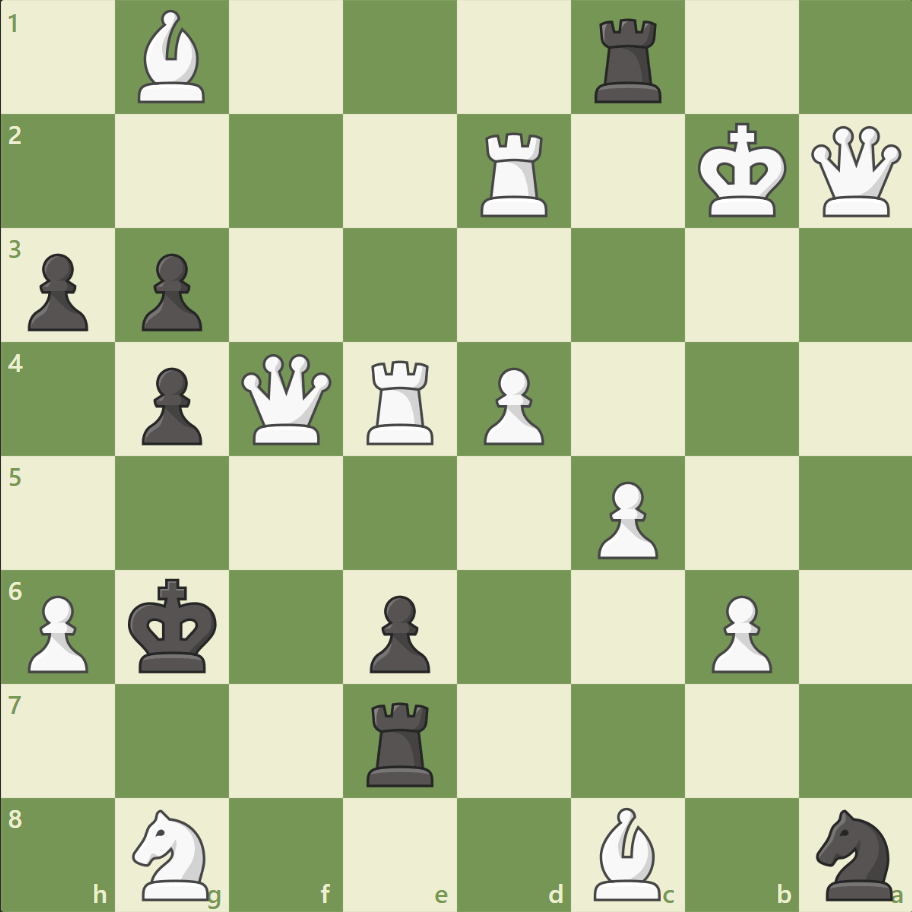B: (585, 801, 669, 904), (131, 6, 215, 109)
K: (692, 117, 792, 225)
N: (124, 802, 222, 904)
P: (701, 586, 776, 677), (20, 586, 95, 677), (474, 359, 549, 450), (588, 473, 662, 564)
Q: (237, 349, 336, 449), (805, 122, 904, 222)
R: (473, 125, 556, 222), (360, 352, 442, 449)
k: (124, 571, 224, 679)
n: (806, 802, 903, 904)
p: (133, 359, 208, 450), (133, 246, 208, 337), (20, 246, 95, 337), (361, 586, 435, 677)
r: (587, 12, 670, 109), (360, 693, 442, 790)
